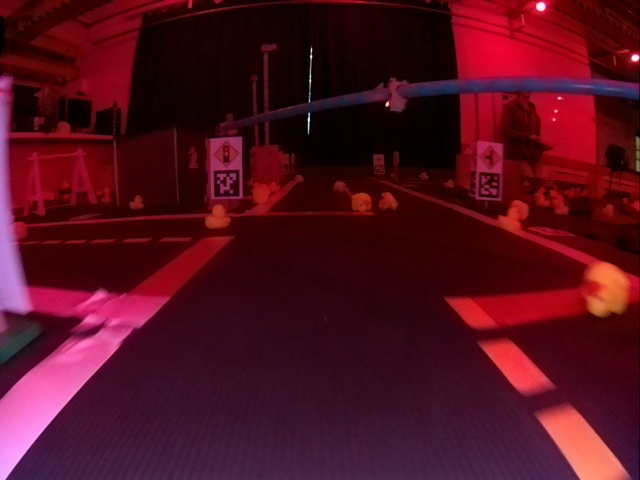Duckie: (582, 262, 629, 316), (205, 207, 230, 229), (498, 210, 522, 231), (378, 191, 398, 212), (349, 194, 371, 212), (511, 202, 529, 220), (253, 185, 269, 204), (129, 196, 144, 210), (553, 204, 569, 215), (334, 182, 346, 191), (445, 179, 452, 188)
Intersection sign: (481, 146, 500, 169)
QR code: (213, 170, 240, 196), (480, 173, 499, 197), (470, 171, 478, 194)
Signal sign: (213, 142, 238, 167)
Traffic light: (386, 79, 410, 113)
